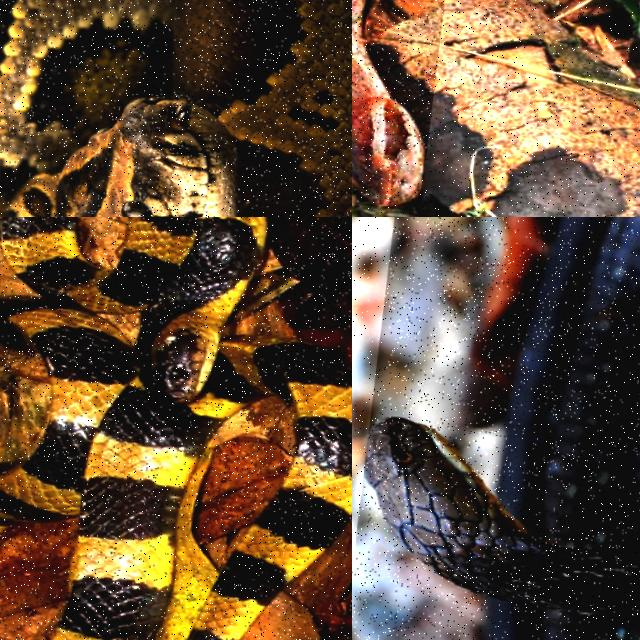Bungarus fasciatus: (0, 217, 351, 639)
Calloselasma rhodostoma: (352, 0, 425, 208)
Ophiophagus hannah: (366, 217, 639, 639)
Python bivittatus: (0, 0, 351, 216)
